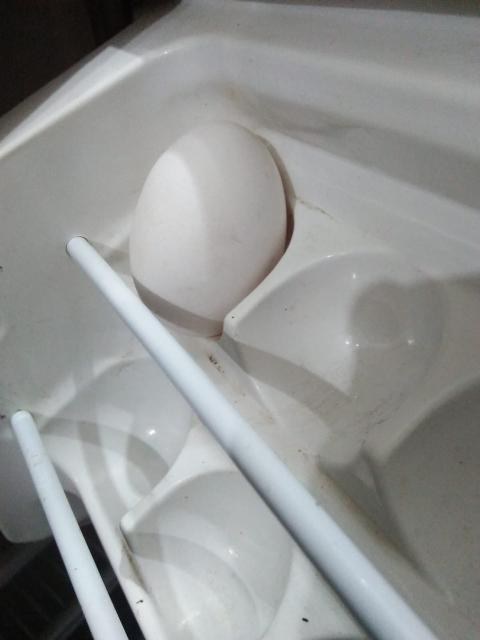Sano: (127, 118, 288, 337)
